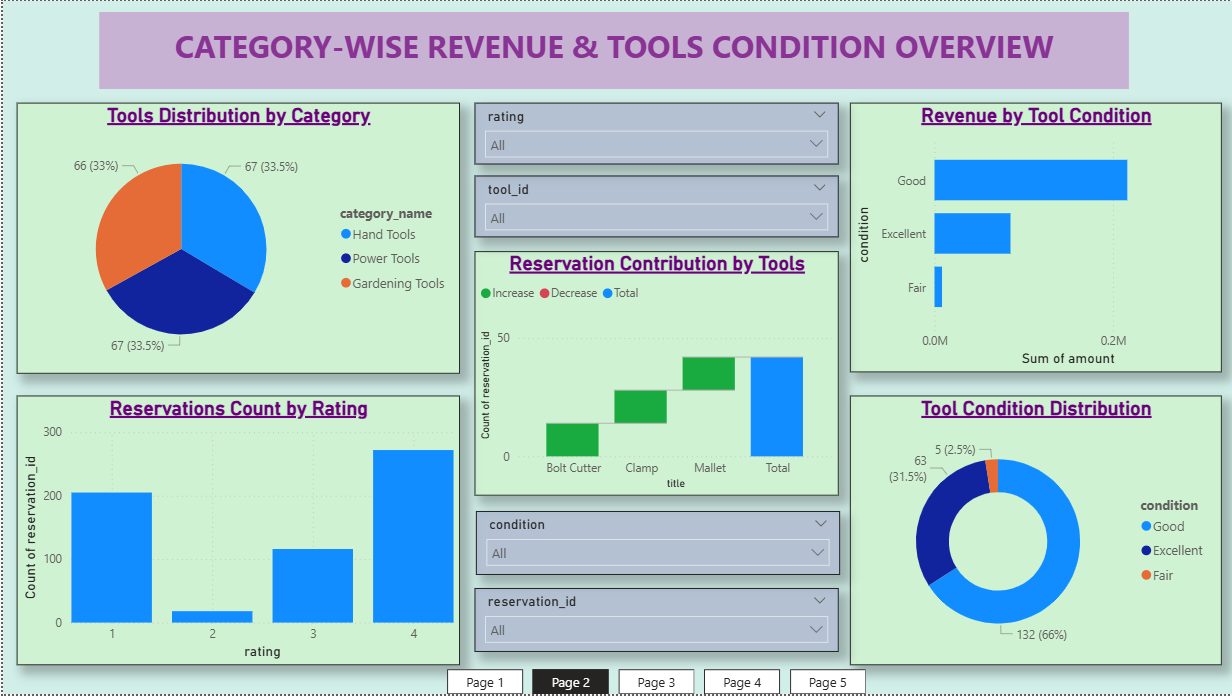

What the dashboard file says about the page in this screenshot:
{"tool":"powerbi","page":{"name":"Page 2","canvas":[1280,720],"ordinal":1},"visuals":[{"type":"pieChart","title":"Tools Distribution by Category","fields":{"Y":["CountNonNull(Tools.tool_id)"],"Category":["Categories.category_name"]},"box":[14.4,105.6,460,281.1],"z":0},{"type":"clusteredBarChart","title":"Revenue by Tool Condition","fields":{"Y":["Sum(Transactions.amount)"],"Category":["Tools.condition"]},"box":[880,106,386,280],"z":1000},{"type":"waterfallChart","title":"Reservation Contribution by Tools","fields":{"Category":["Tools.title"],"Y":["CountNonNull(Reservations.reservation_id)"]},"box":[490,260,378,254],"z":2000},{"type":"donutChart","title":"Tool Condition Distribution","fields":{"Y":["CountNonNull(Tools.tool_id)"],"Category":["Tools.condition"]},"box":[880,410,386,280],"z":3000},{"type":"columnChart","title":"Reservations Count by Rating","fields":{"Y":["CountNonNull(Reservations.reservation_id)"],"Category":["Reviews.rating"]},"box":[14,410,460,280],"z":4000},{"type":"slicer","fields":{"Values":["Reviews.rating"]},"box":[490,106,378,64],"z":5000},{"type":"slicer","fields":{"Values":["Tools.tool_id"]},"box":[490,182,378,64],"z":6000},{"type":"slicer","fields":{"Values":["Tools.condition"]},"box":[492,530,378,66],"z":7000},{"type":"slicer","fields":{"Values":["Transactions.reservation_id"]},"box":[490,610,378,66],"z":8000},{"type":"pageNavigator","box":[462,694,436,26],"z":9000},{"type":"textbox","box":[100,11.7,1070,80],"z":10000}]}

Visuals, with their boxes in screenshot pixels (x1, y1, x2, y2), scaled from the page's 1280x720 canvas onto the 1232x696 screenshot:
"Tools Distribution by Category" pieChart: pyautogui.locateOnScreen(14, 102, 457, 374)
"Revenue by Tool Condition" clusteredBarChart: pyautogui.locateOnScreen(847, 102, 1219, 373)
"Reservation Contribution by Tools" waterfallChart: pyautogui.locateOnScreen(472, 251, 835, 497)
"Tool Condition Distribution" donutChart: pyautogui.locateOnScreen(847, 396, 1219, 667)
"Reservations Count by Rating" columnChart: pyautogui.locateOnScreen(13, 396, 456, 667)
slicer - Reviews.rating: pyautogui.locateOnScreen(472, 102, 835, 164)
slicer - Tools.tool_id: pyautogui.locateOnScreen(472, 176, 835, 238)
slicer - Tools.condition: pyautogui.locateOnScreen(474, 512, 837, 576)
slicer - Transactions.reservation_id: pyautogui.locateOnScreen(472, 590, 835, 653)
pageNavigator: pyautogui.locateOnScreen(445, 671, 864, 695)
textbox: pyautogui.locateOnScreen(96, 11, 1126, 89)
